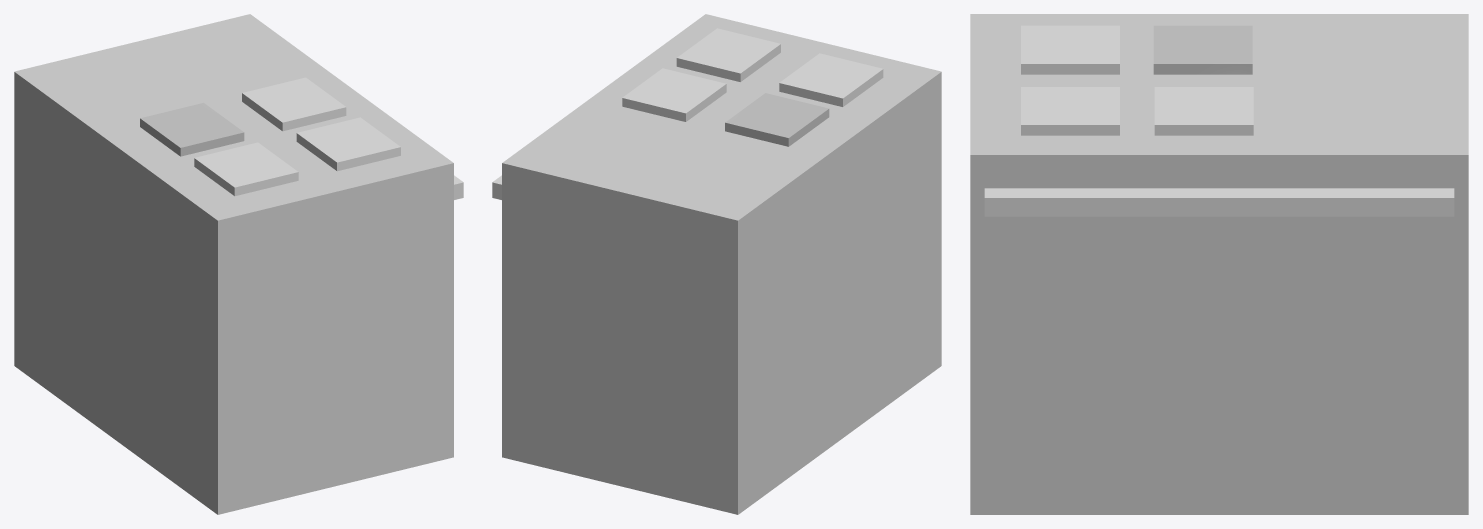
Rendered from kitchen.glb.
3 views of the same model, side by side, from view 1: azimuth 30°, elevation 25°; view 2: azimuth 150°, elevation 25°; view 3: azimuth 270°, elevation 25° (orthographic). The views are drawn at different scales.
Visible parts, largest first — view 1: Cube, Cube.005, Cube.004, Cube.003, Cube.002; view 2: Cube, Cube.002, Cube.003, Cube.004, Cube.005; view 3: Cube, Cube.001, Cube.004, Cube.003, Cube.005, Cube.002.
Boxes of the visible parts, left/top/right/bottom form: Cube: left=14, top=14, right=453, bottom=514; Cube.005: left=242, top=77, right=346, bottom=131; Cube.004: left=140, top=102, right=244, bottom=156; Cube.003: left=194, top=142, right=298, bottom=196; Cube.002: left=296, top=117, right=400, bottom=171; Cube: left=502, top=14, right=941, bottom=514; Cube.002: left=676, top=28, right=780, bottom=81; Cube.003: left=779, top=53, right=883, bottom=106; Cube.004: left=725, top=93, right=829, bottom=146; Cube.005: left=622, top=68, right=726, bottom=121; Cube: left=970, top=14, right=1468, bottom=514; Cube.001: left=984, top=188, right=1454, bottom=216; Cube.004: left=1153, top=25, right=1252, bottom=74; Cube.003: left=1021, top=25, right=1119, bottom=74; Cube.005: left=1154, top=87, right=1253, bottom=135; Cube.002: left=1021, top=87, right=1119, bottom=135.
Size of the model in its own units: 2.13 by 2.45 by 2.99.
6 materials, 1 textured.
